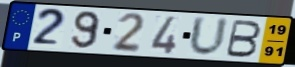2: (29, 7, 69, 50), (111, 12, 147, 53)
4: (150, 15, 179, 56)
9: (70, 10, 102, 51)
B: (223, 18, 264, 59)
U: (187, 15, 230, 59)
